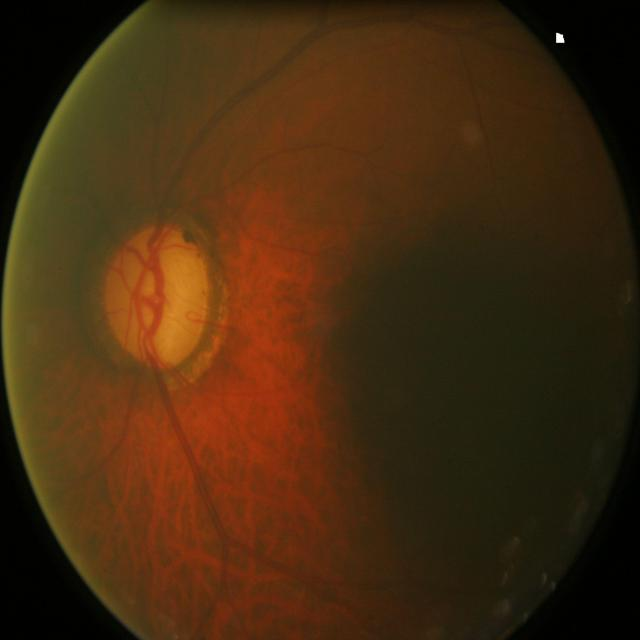OD: (102, 223, 210, 367)
